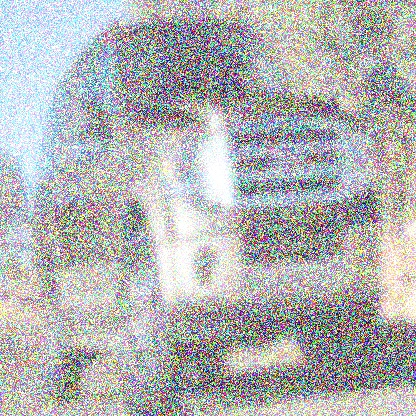Vehicle: (29, 15, 392, 414)
